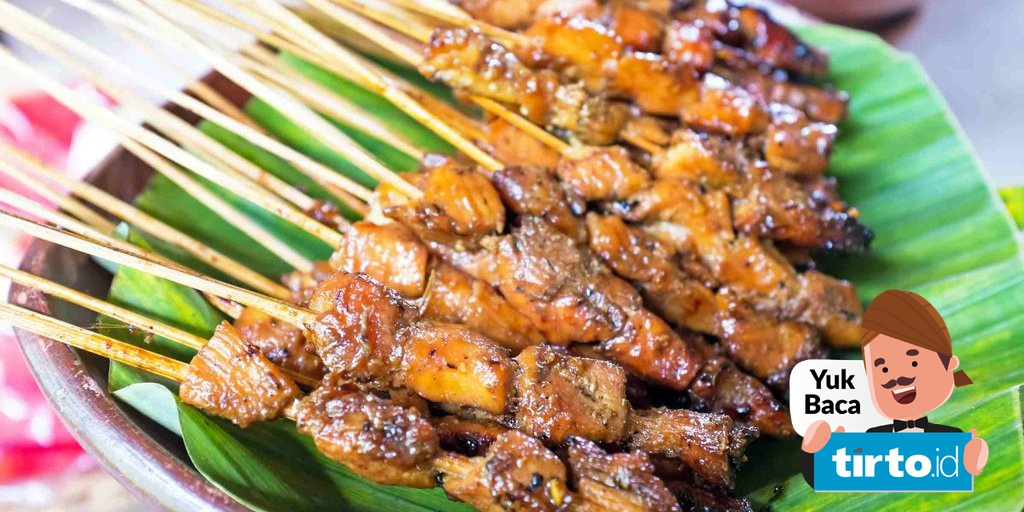sate: (151, 16, 937, 489)
